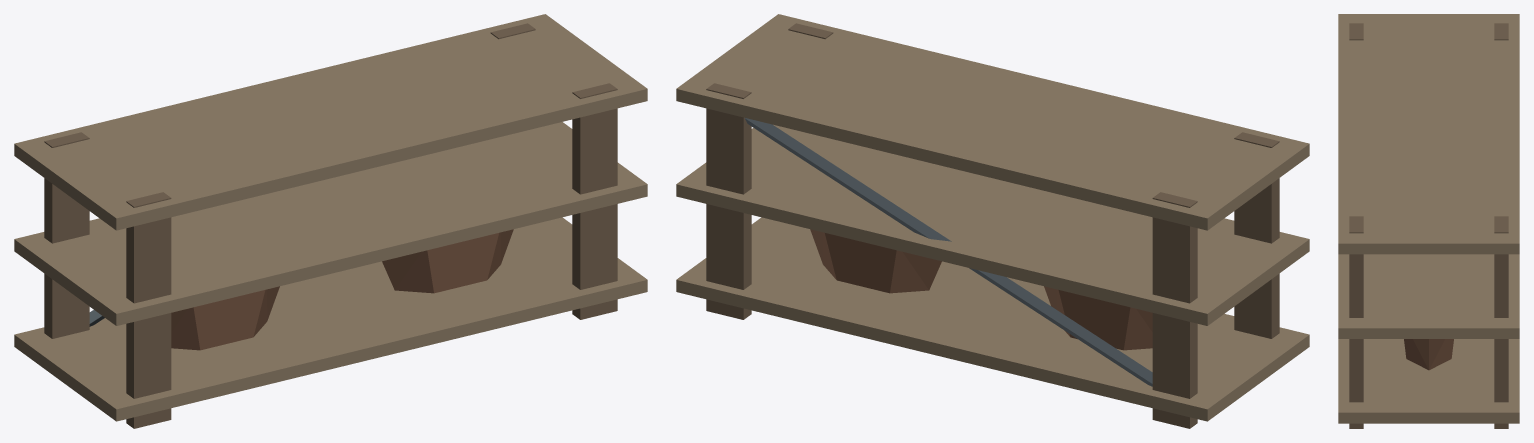
File: garden_rack.glb
3 renders of one model, left to right at view 1: azimuth 30°, elevation 25°; view 2: azimuth 150°, elevation 25°; view 3: azimuth 270°, elevation 25°, orthographic. The views are drawn at different scales.
Parts seen in each view (by area): view 1: garden_rack; view 2: garden_rack; view 3: garden_rack.
Boxes of the visible parts, bbox=[...] form: garden_rack: bbox=[14, 14, 647, 428]; garden_rack: bbox=[676, 14, 1309, 428]; garden_rack: bbox=[1338, 14, 1519, 428].
Size of the model in its own units: 2.88 by 1.15 by 0.96.
